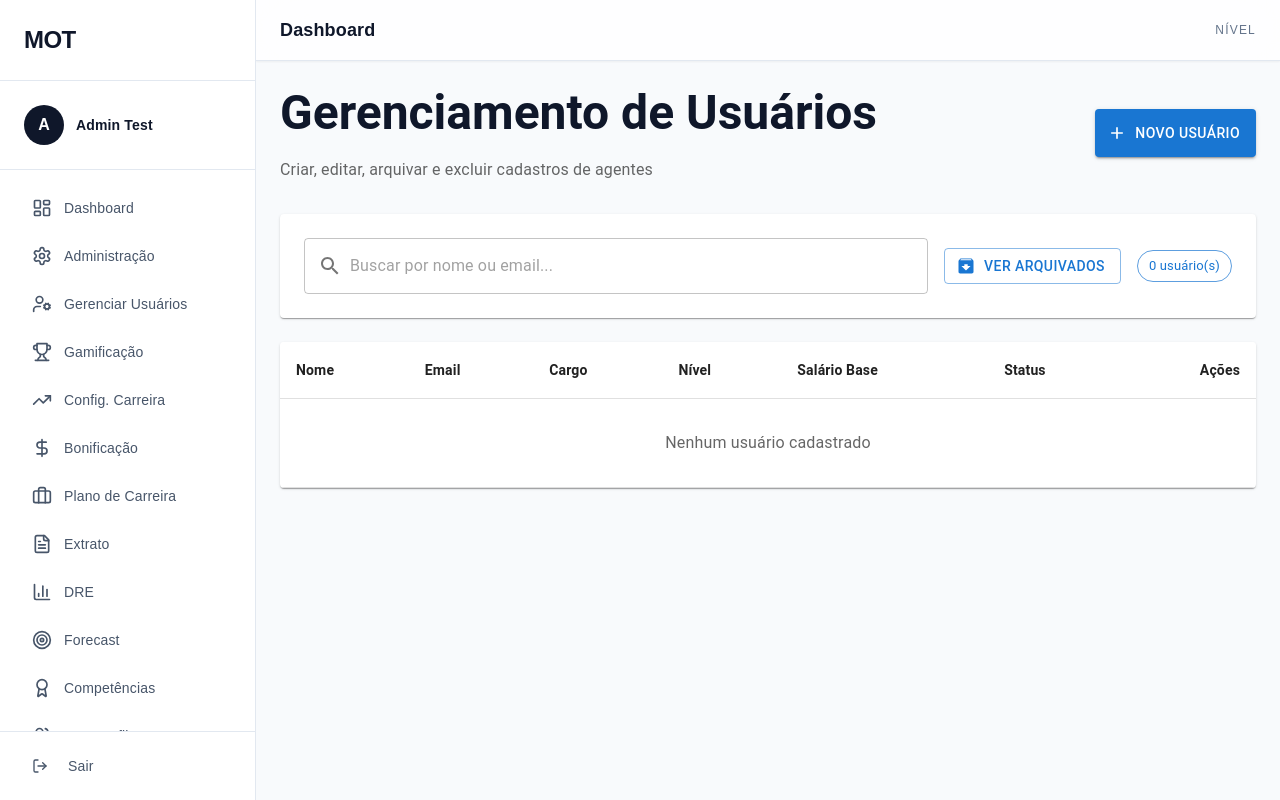
Test: UserManagementPage - Correção de Imports › 3. Checkbox está disponível e funciona
Later steps or results of the test are not shown.
# Abrir modal
Click the button with test id "create-user-btn".
click(1176, 133)  # box x1=1095 y1=109 x2=1256 y2=157
(page scrolled)
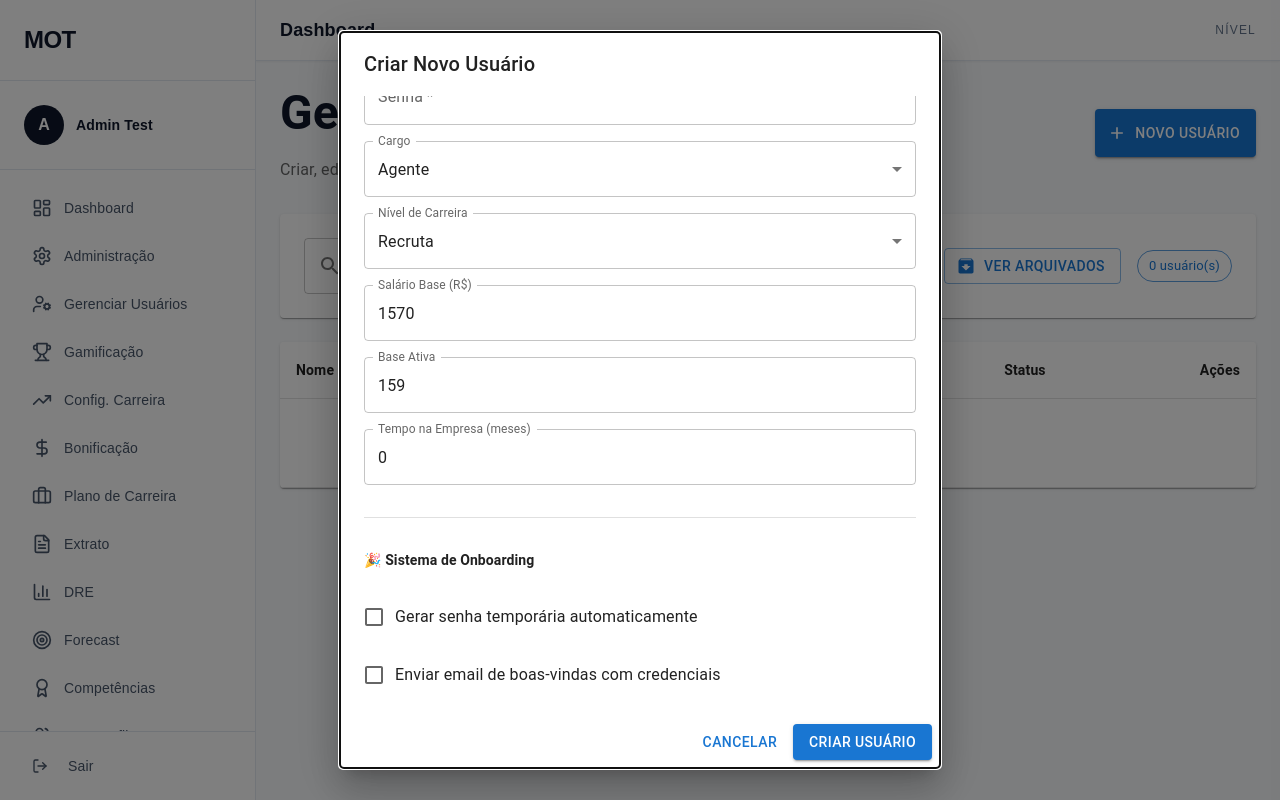
Expected: the element with test id "generate-temp-password-checkbox" is shown, x1=362 y1=605 x2=386 y2=629
